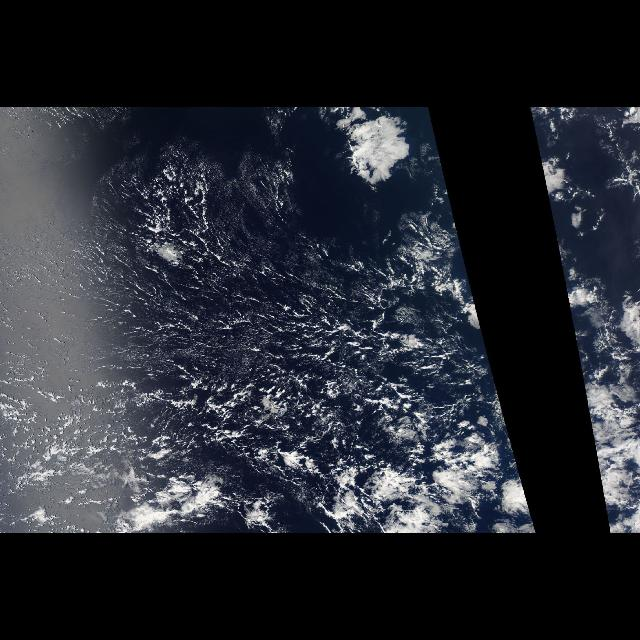Gravel: (6, 252, 488, 524)
Sugar: (2, 152, 368, 372)
